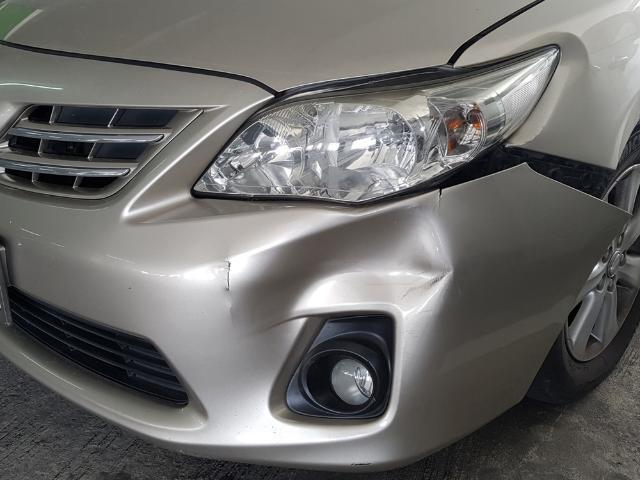crack: (436, 189, 444, 216)
dent: (233, 202, 454, 341)
dislocated part: (198, 146, 631, 470)
